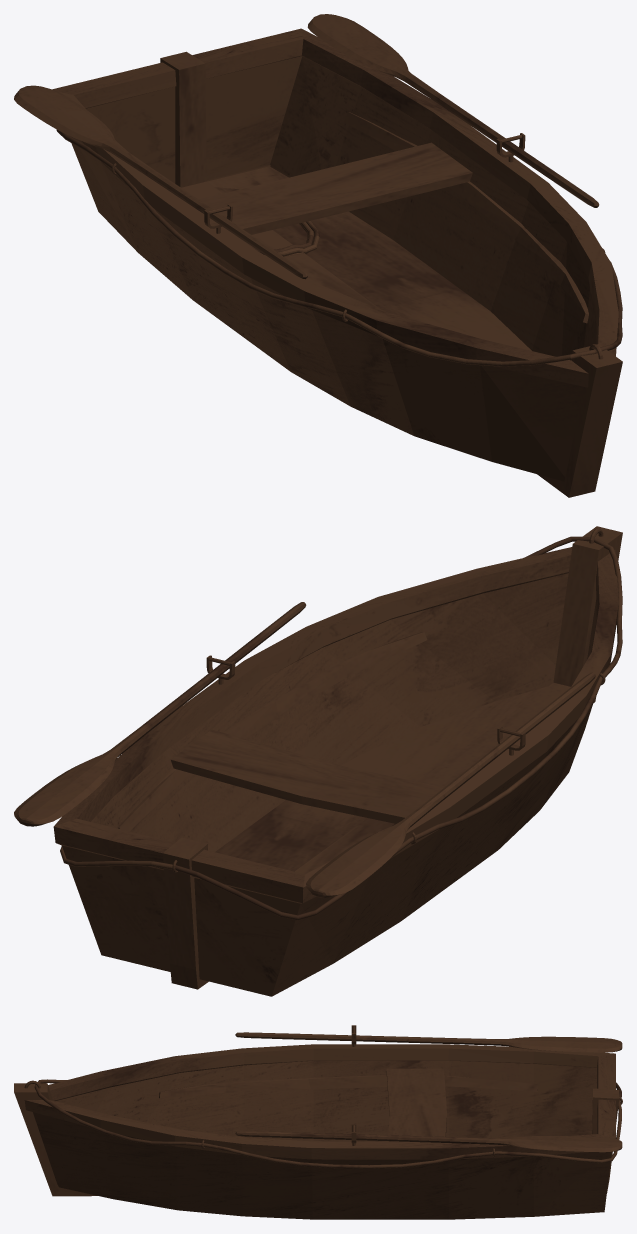
The model's file is boat.fbx.
The picture shows the model from 3 angles, top to bottom: view 1: azimuth 30°, elevation 25°; view 2: azimuth 150°, elevation 25°; view 3: azimuth 270°, elevation 25°; orthographic projection. The views are drawn at different scales.
Visible parts, largest first — view 1: BoatLow; view 2: BoatLow; view 3: BoatLow.
Part boxes in pixels (<box>): BoatLow: <box>14,14,622,497</box>; BoatLow: <box>14,526,622,996</box>; BoatLow: <box>14,1025,622,1219</box>.
Bounding box in the file's own units: 301 × 138 × 677.
